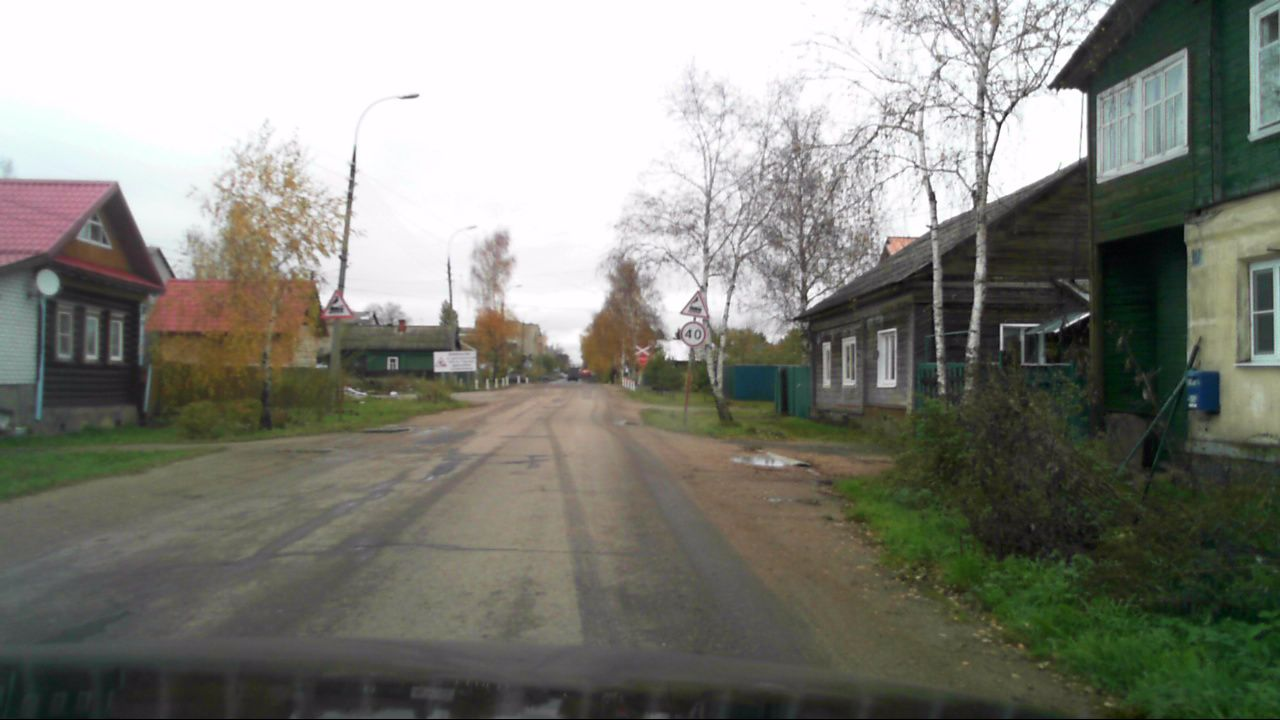speed_warning_40: (679, 321, 706, 346)
